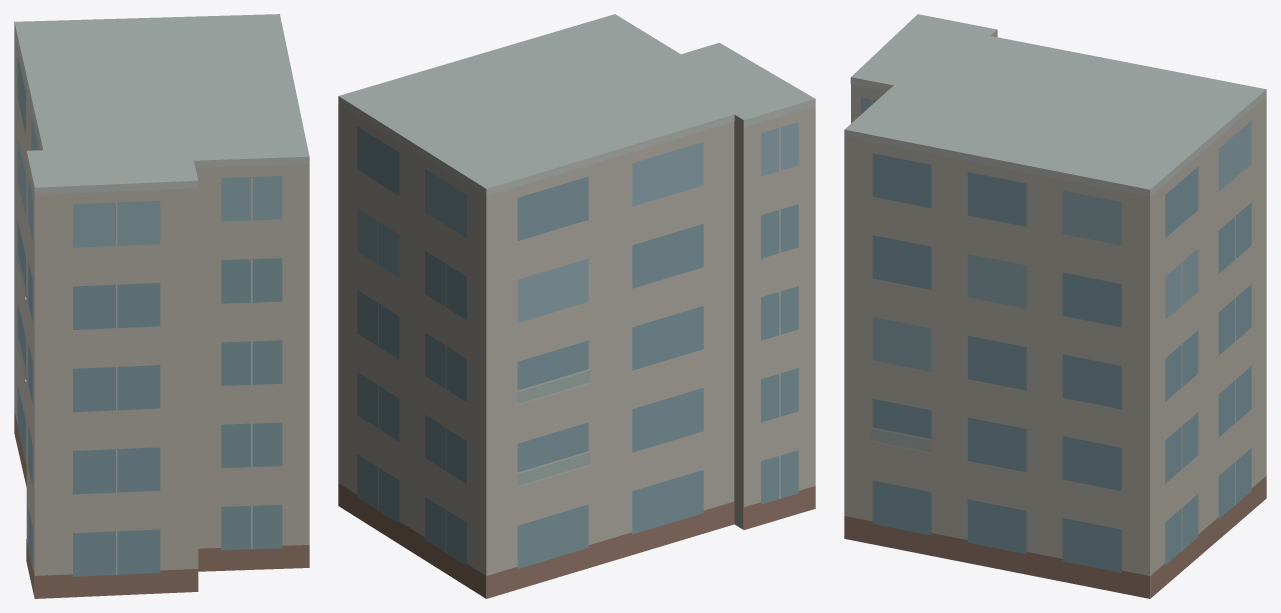
Rendered from survey-upis-32664813.glb.
3 renders of one model, left to right at view 1: azimuth 30°, elevation 25°; view 2: azimuth 150°, elevation 25°; view 3: azimuth 270°, elevation 25°, orthographic.
Visible parts, largest first — view 1: survey-upis-32664813.tmp; view 2: survey-upis-32664813.tmp; view 3: survey-upis-32664813.tmp.
Boxes of the visible parts, x1,y1,x2,y2 form: survey-upis-32664813.tmp: (14,14,309,598); survey-upis-32664813.tmp: (338,14,815,598); survey-upis-32664813.tmp: (844,14,1266,598).
Bounding box in the file's own units: 12.81 × 13.9 × 13.01.
